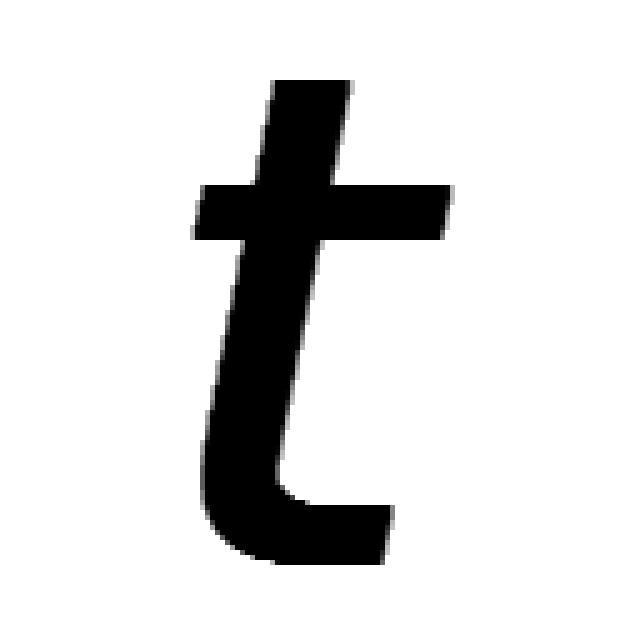T: (180, 70, 455, 570)
